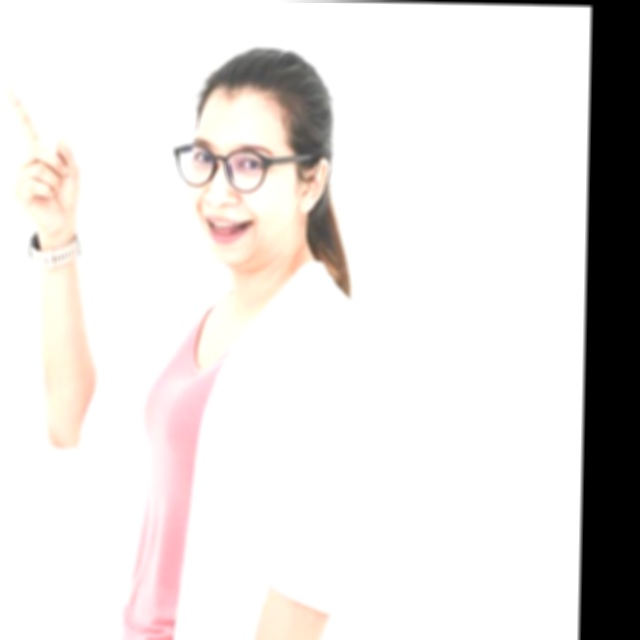Sin_Casco_Mascarrilla: (175, 42, 337, 271)
Sin_Chaleco: (116, 279, 364, 640)
